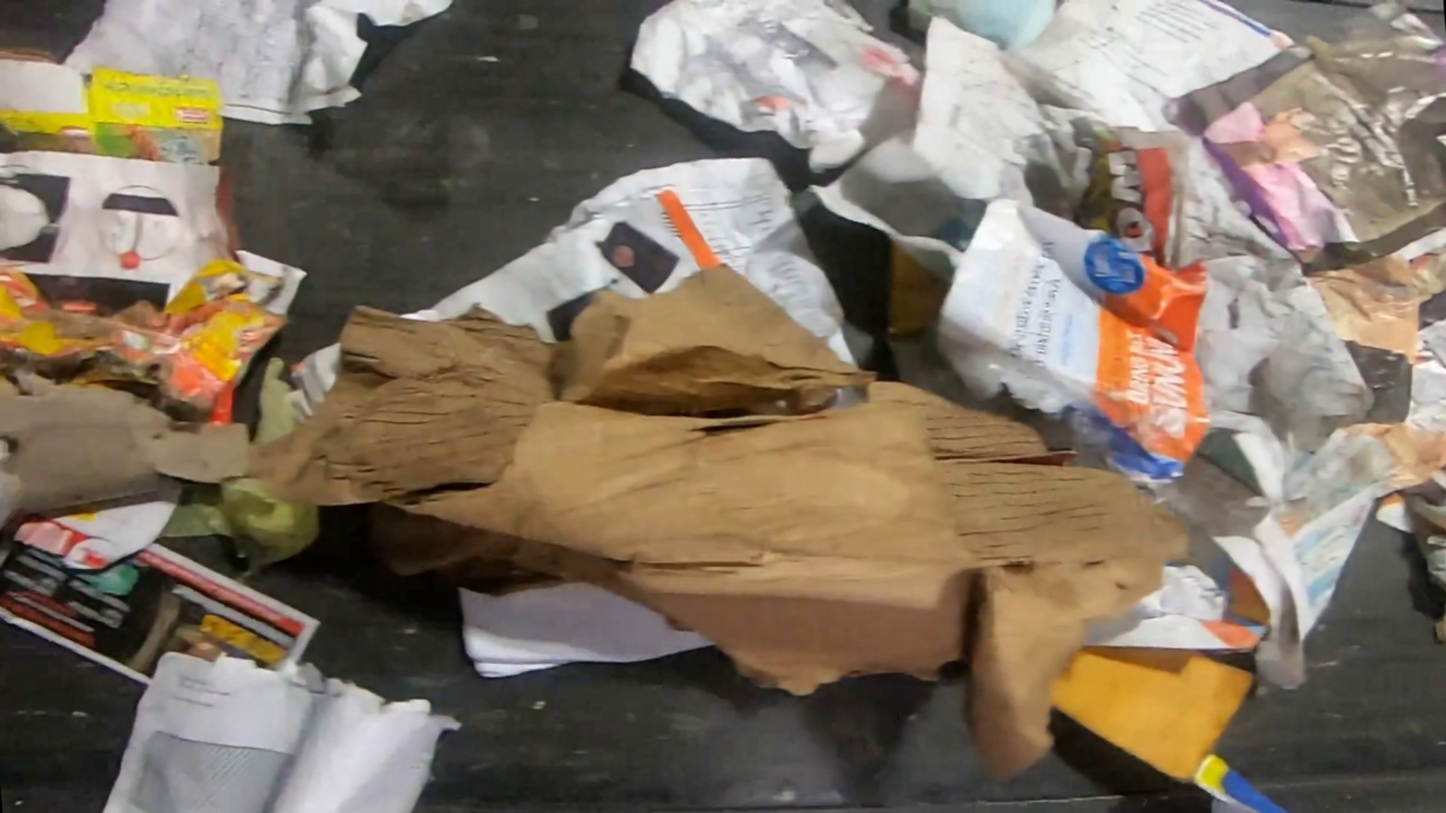cardboard: (246, 263, 1193, 788), (0, 245, 312, 423), (0, 358, 253, 537), (1051, 645, 1259, 785), (0, 48, 228, 168), (155, 474, 325, 574), (249, 355, 303, 447)
